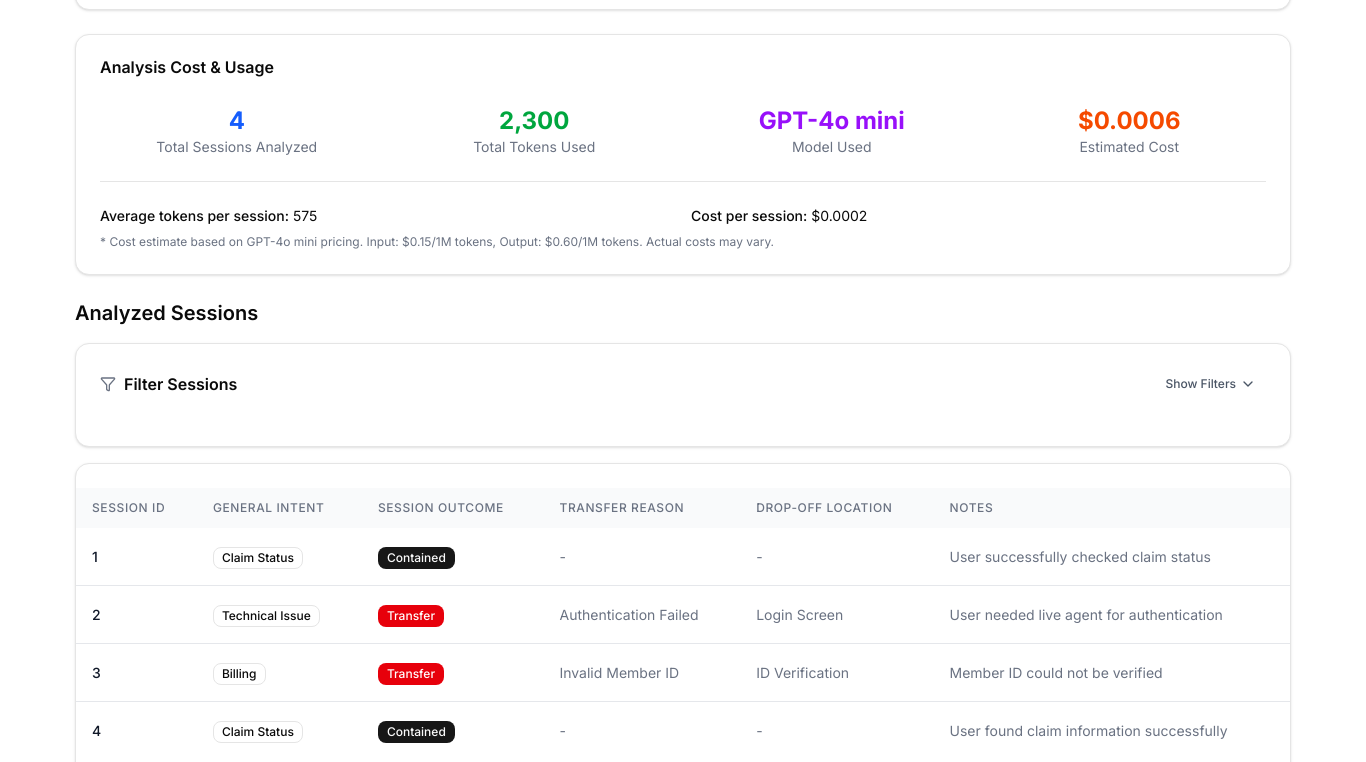
it: AnalysisReportView - Enhanced Filtering › Filter UI Components › collapses filters when hide button is clicked
(page scrolled)
Expand filters first
Click the button "Show Filters": coordinates (1211, 384) [1155,368,1266,400]
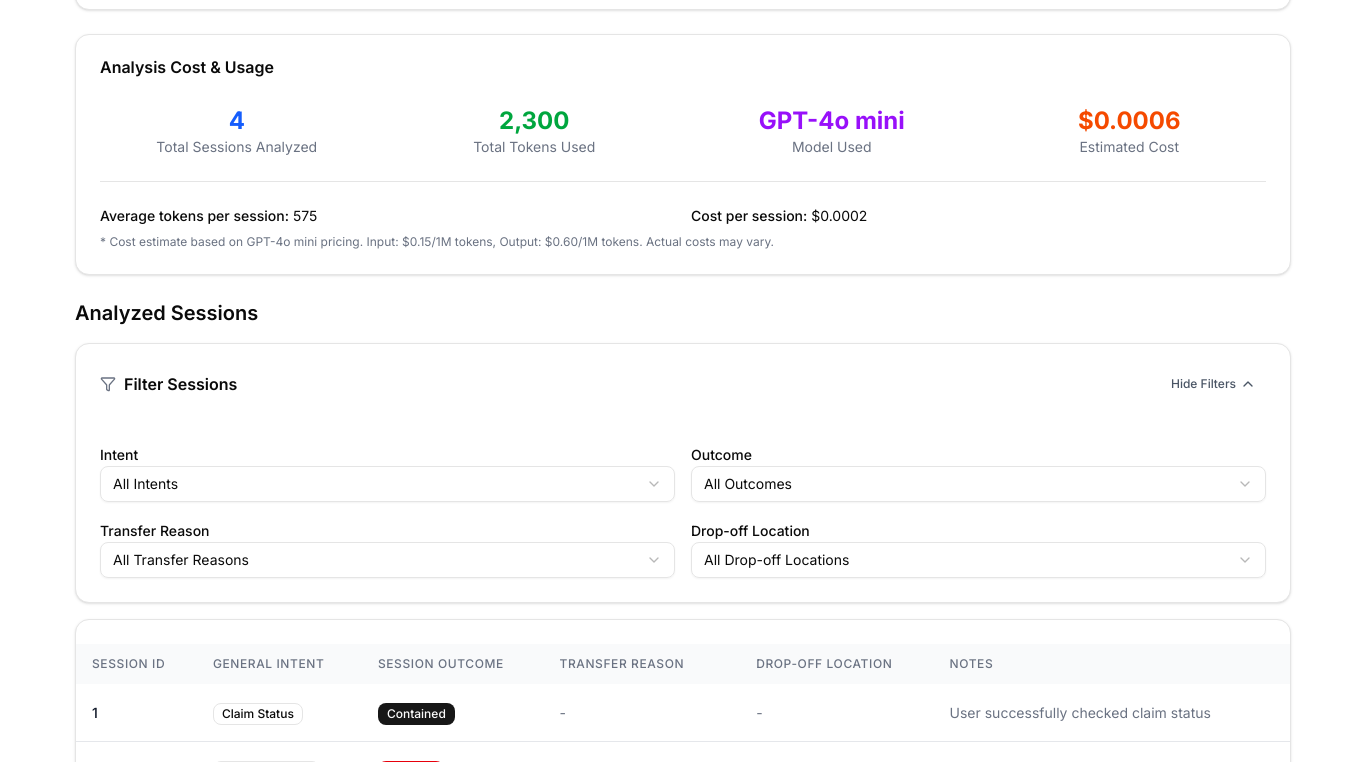
expect the dropdown labelled "Intent" is shown: met, box [100,466,675,502]
Click hide button
Click the button "Hide Filters": coordinates (1214, 384) [1161,368,1266,400]
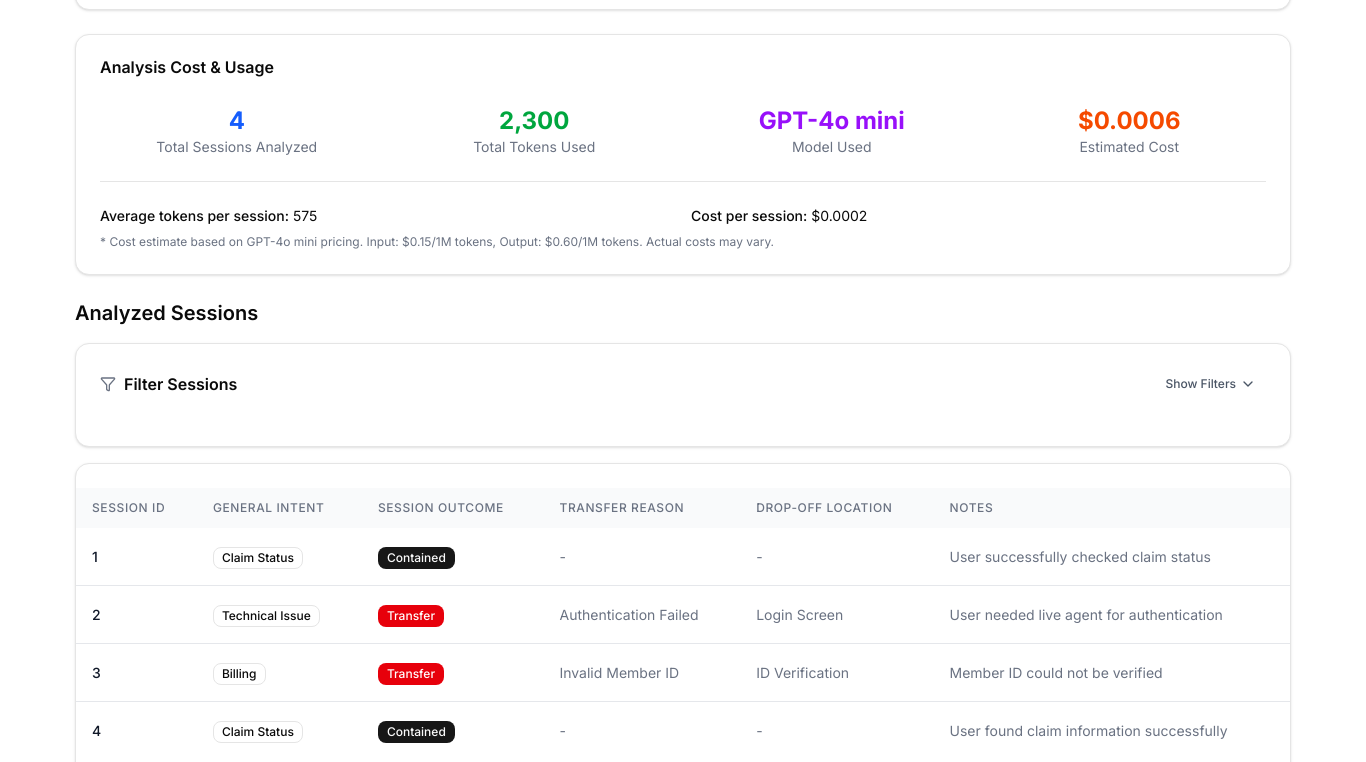
expect the button "Show Filters" is shown: met, box [1155,368,1266,400]
